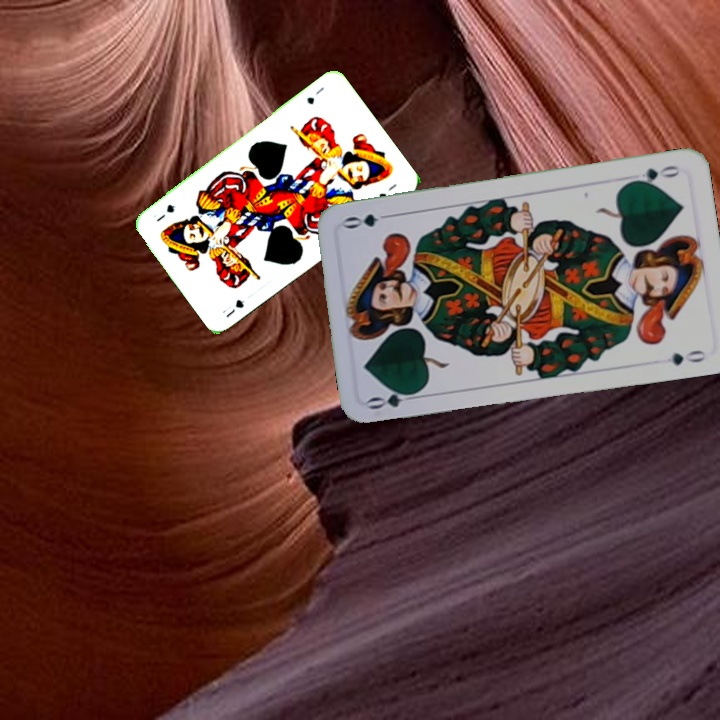GO: (364, 386, 424, 412), (625, 161, 682, 187)
GU: (218, 295, 247, 320), (302, 83, 326, 107)
